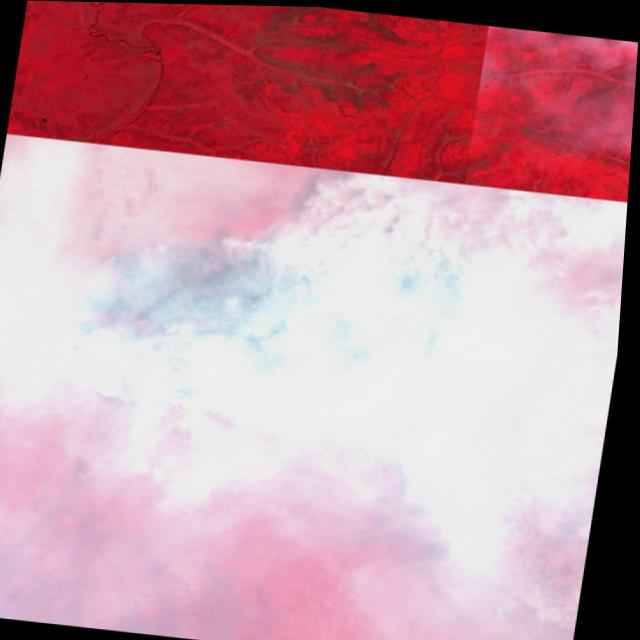fire: (15, 188, 589, 458)
